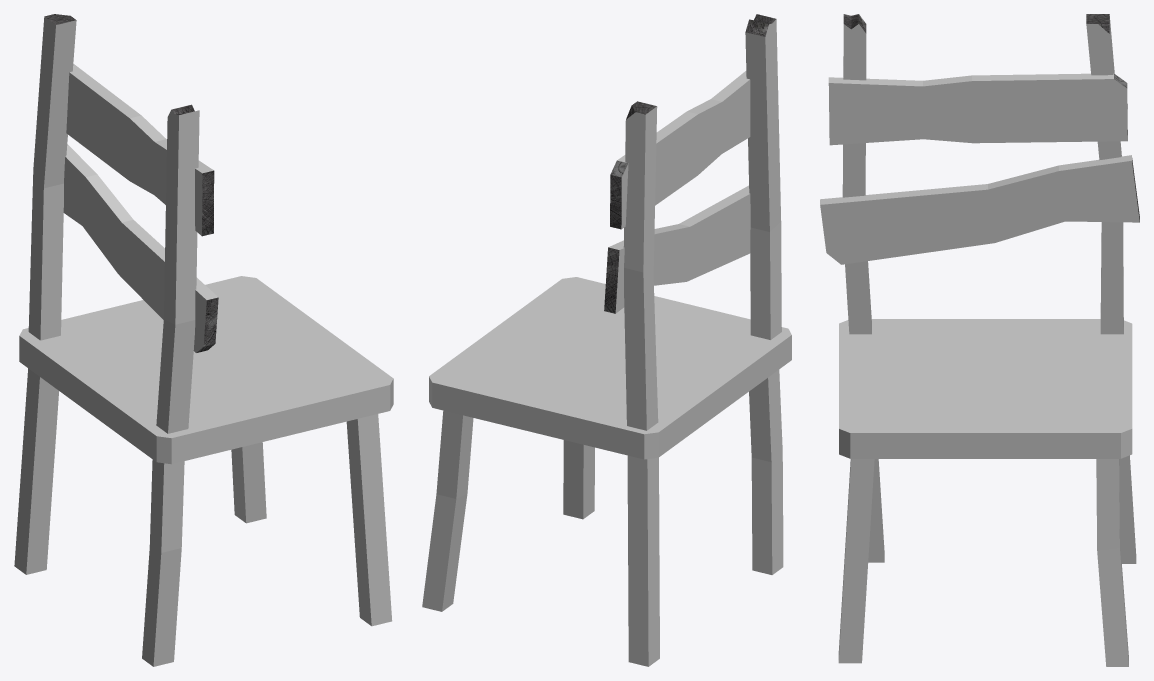
File: MedievalChair.fbx
3 renders of one model, left to right at view 1: azimuth 30°, elevation 25°; view 2: azimuth 150°, elevation 25°; view 3: azimuth 270°, elevation 25°, orthographic. The views are drawn at different scales.
Parts seen in each view (by area): view 1: ChairOld.001; view 2: ChairOld.001; view 3: ChairOld.001.
Part boxes in pixels (box(x1,y1,x2,y2)): ChairOld.001: box(14, 14, 393, 666); ChairOld.001: box(422, 14, 791, 666); ChairOld.001: box(820, 14, 1139, 666).
Bounding box in the file's own units: 69.26 × 153 × 81.1.
